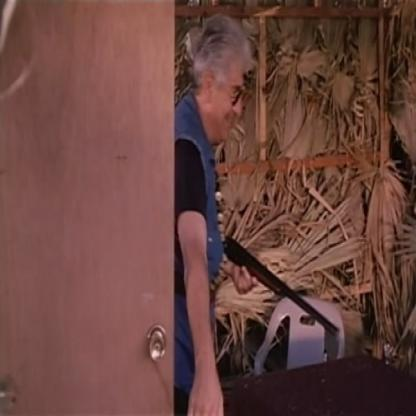Guns: (215, 229, 340, 342)
